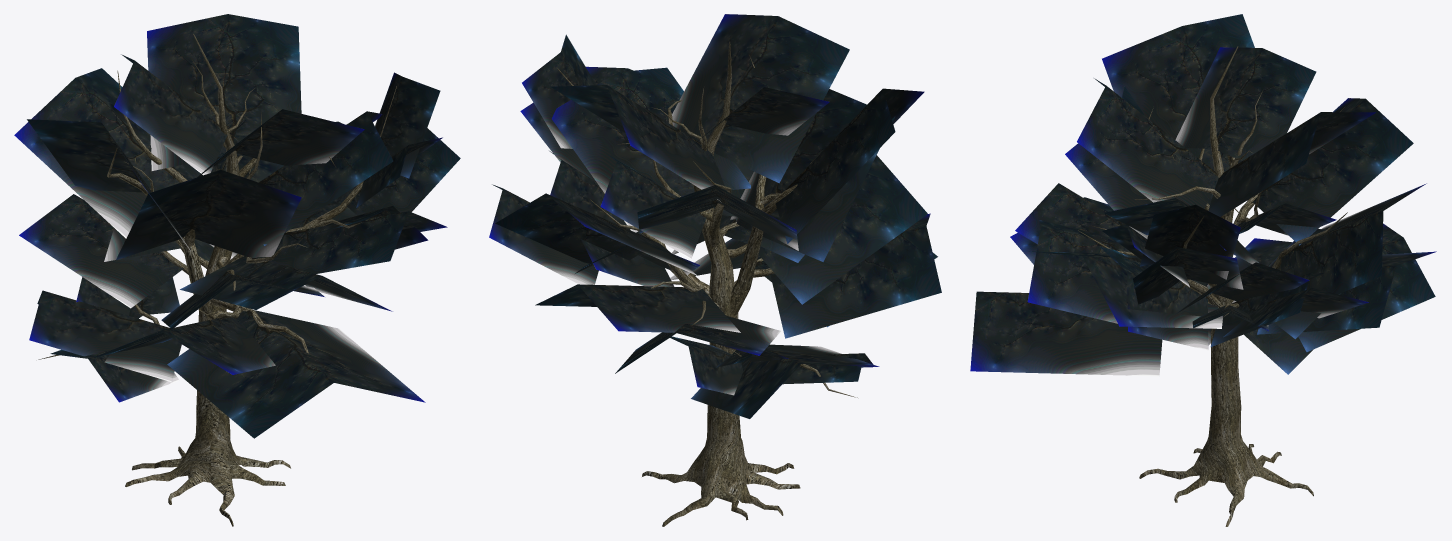
File: oak-winter-a.DAE
3 renders of one model, left to right at view 1: azimuth 30°, elevation 25°; view 2: azimuth 150°, elevation 25°; view 3: azimuth 270°, elevation 25°, orthographic. The views are drawn at different scales.
Parts seen in each view (by area): view 1: oak_a; view 2: oak_a; view 3: oak_a.
Part boxes in pixels (x1,y1,x2,y2): oak_a: [14, 14, 460, 526]; oak_a: [489, 14, 941, 526]; oak_a: [970, 14, 1436, 526].
Bounding box in the file's own units: 1148 × 1262 × 1304.
